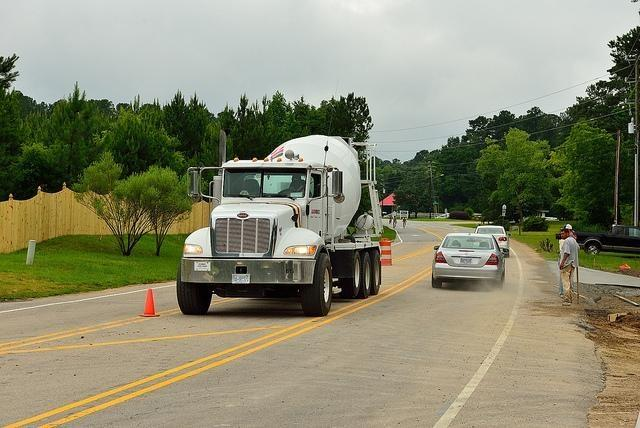car: (432, 232, 510, 292), (475, 225, 508, 247)
truck: (172, 134, 384, 318), (574, 222, 640, 257)
